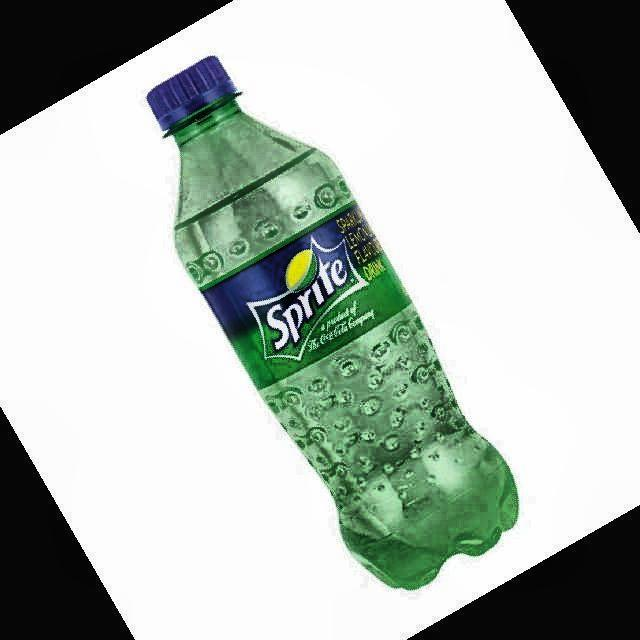plastic: (148, 56, 519, 589)
